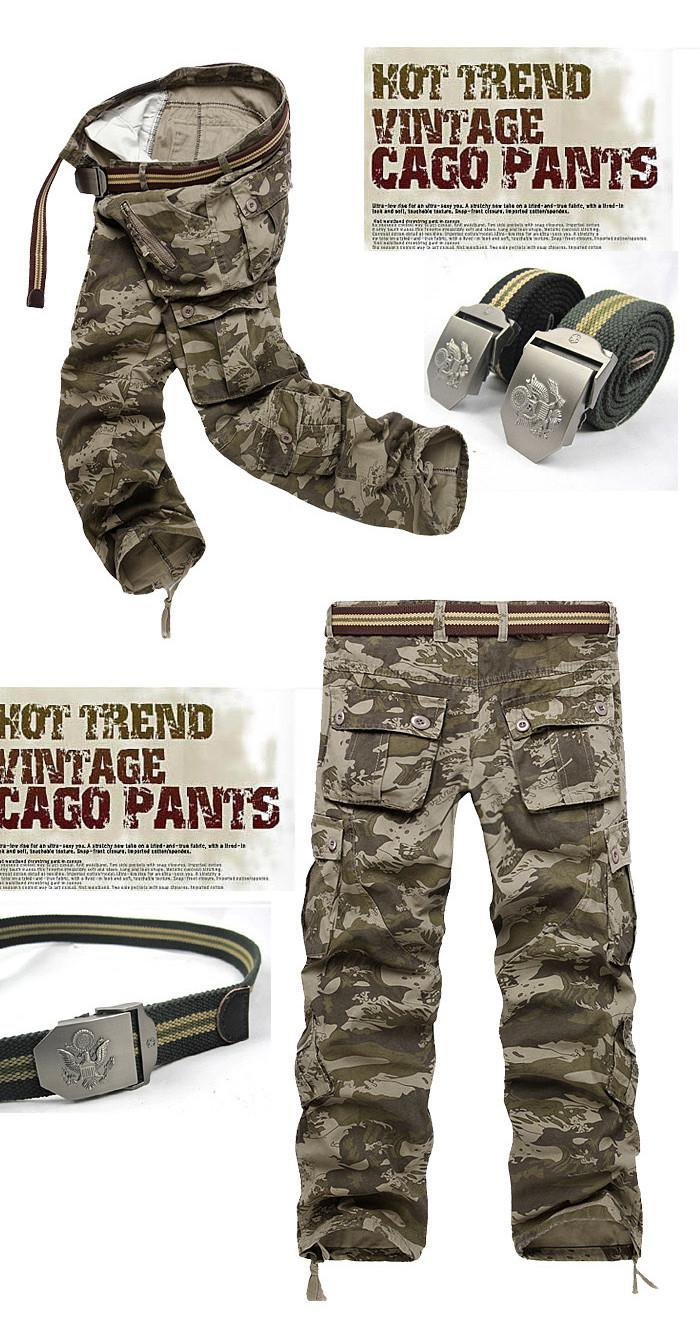pants: (327, 582, 637, 1256), (51, 77, 466, 558)
